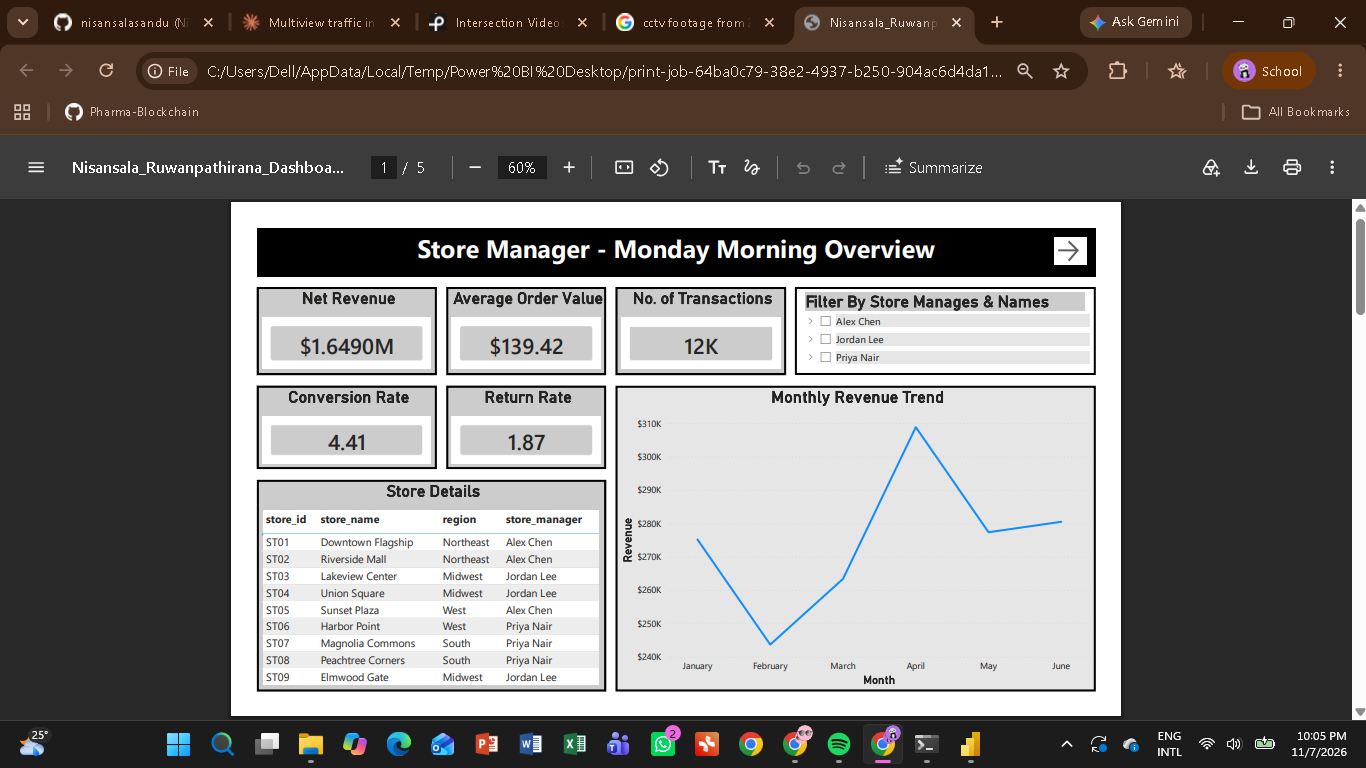

The dashboard page shown, as its layout file describes it:
{"tool":"powerbi","page":{"name":"Store Manager View","canvas":[1280,720],"ordinal":0},"visuals":[{"type":"slicer","fields":{"Values":["store_kpi.store_manager","store_kpi.store_name"]},"box":[816.9,104.4,448.4,130.4],"z":0},{"type":"cardVisual","title":"Net Revenue","fields":{"Data":["Sum(store_kpi.net_revenue)"]},"box":[16.3,104.4,267.4,130.4],"z":1000},{"type":"cardVisual","title":"Average Order Value","fields":{"Data":["Avg(store_kpi.aov)"]},"box":[298.4,104.4,238.1,130.4],"z":2000},{"type":"cardVisual","title":"Conversion Rate","fields":{"Data":["Avg(store_kpi.conversion_rate_pct)"]},"box":[16.3,251.1,267.4,123.9],"z":3000},{"type":"cardVisual","title":"Return Rate","fields":{"Data":["Avg(store_kpi.return_rate_pct)"]},"box":[298.4,251.1,238.1,123.9],"z":4000},{"type":"lineChart","title":"Monthly Revenue Trend","fields":{"Category":["store_monthly_trend.month_str.Variation.Date Hierarchy.Month"],"Y":["Sum(store_monthly_trend.net_revenue)"]},"box":[549.5,251.1,715.8,454.9],"z":5000},{"type":"textbox","box":[16.3,16.3,1249,71.7],"z":6000},{"type":"actionButton","box":[1202.7,30.2,47.9,40.8],"z":7000},{"type":"cardVisual","title":"No. of Transactions","fields":{"Data":["Sum(store_kpi.n_transactions)"]},"box":[549.5,104.4,254.4,130.4],"z":8000},{"type":"tableEx","title":"Store Details","fields":{"Values":["store_kpi.store_id","store_kpi.store_name","store_kpi.region","store_kpi.store_manager"]},"box":[16.3,391.3,520.2,314.7],"z":8001}]}

Visuals, with their boxes on the page's 1280x720 design canvas (x1, y1, x2, y2). These are canvas units, not pixel positions in the 1366x768 screenshot, which may show the page scaled, cropped or inside an application window:
slicer - store_kpi.store_manager x store_kpi.store_name: [817,104,1265,235]
"Net Revenue" cardVisual: [16,104,284,235]
"Average Order Value" cardVisual: [298,104,536,235]
"Conversion Rate" cardVisual: [16,251,284,375]
"Return Rate" cardVisual: [298,251,536,375]
"Monthly Revenue Trend" lineChart: [550,251,1265,706]
textbox: [16,16,1265,88]
actionButton: [1203,30,1251,71]
"No. of Transactions" cardVisual: [550,104,804,235]
"Store Details" tableEx: [16,391,536,706]
